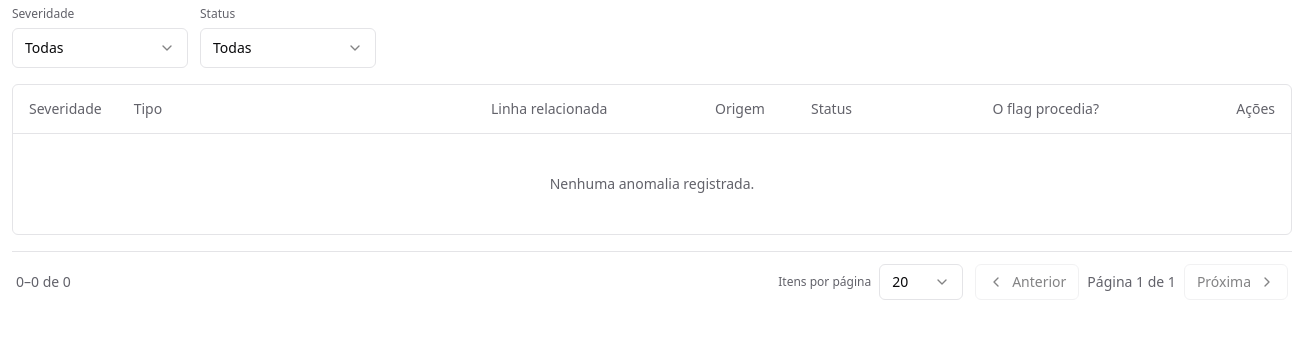
Scenario: Anomalias — estado vazio › com filtro de severidade, cita o filtro e oferece a saída
This screenshot has width=1292, height=361.
Click the dropdown named "Severidade" at (100, 48), box [12,28,188,68]
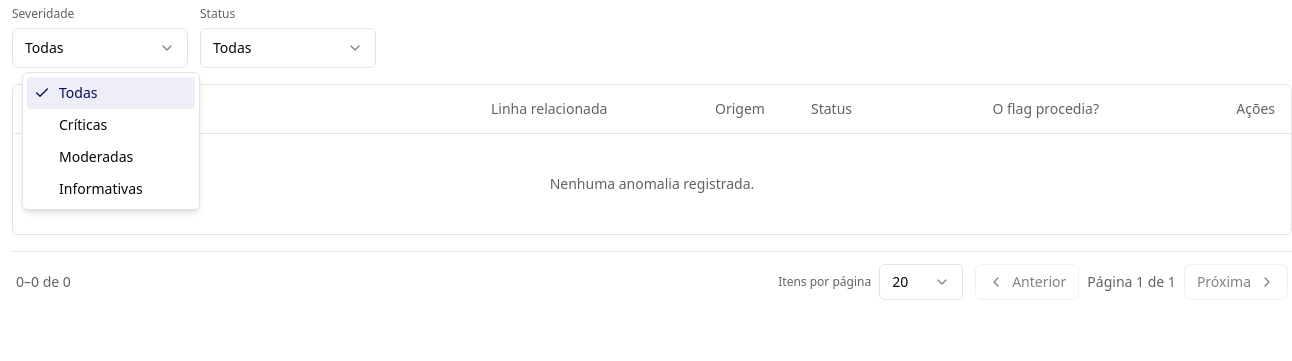
Click the option "Críticas" at (83, 124), box [59,115,107,134]
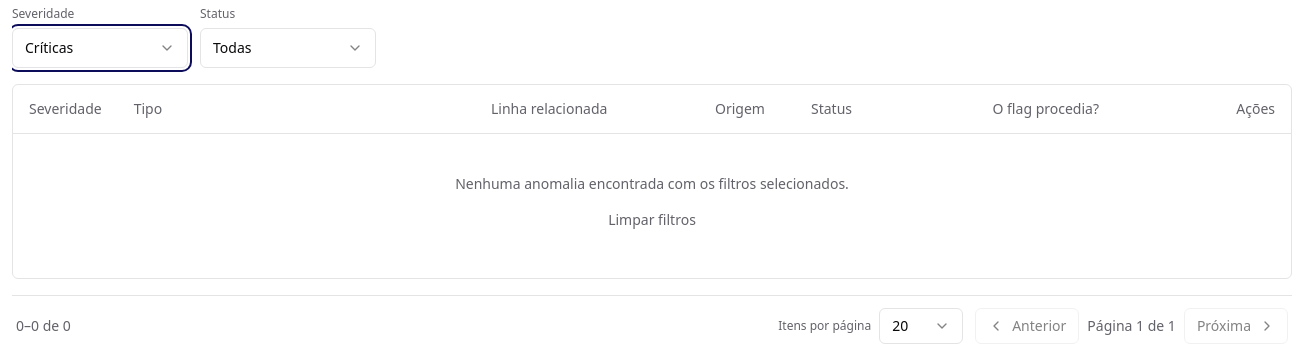
Now the text "Nenhuma anomalia encontrada com os filtros selecionados." is shown, box [455,174,849,192]
Now the text "Nenhuma anomalia registrada." is gone
// "Limpar filtros" é a saída: volta para a listagem completa.
Click the button "Limpar filtros" at (652, 220), box [596,202,708,238]
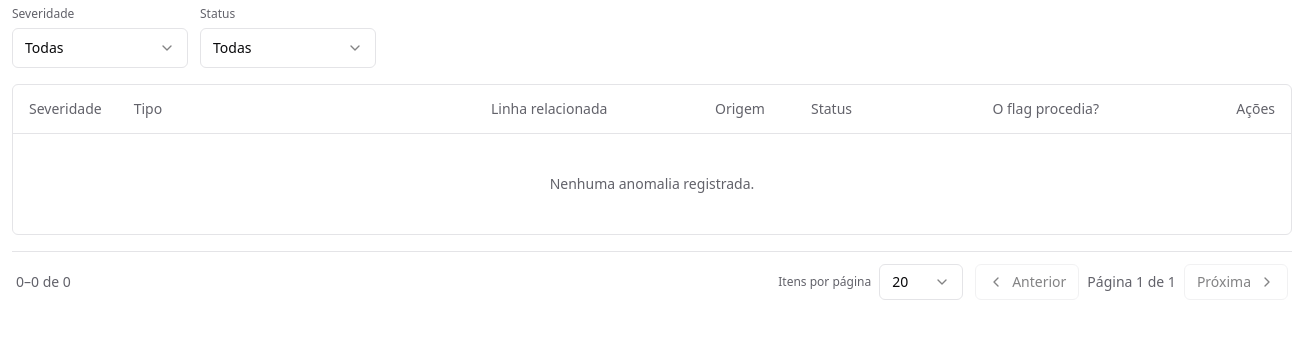
Now the text "Nenhuma anomalia registrada." is shown, box [13,133,1291,234]
